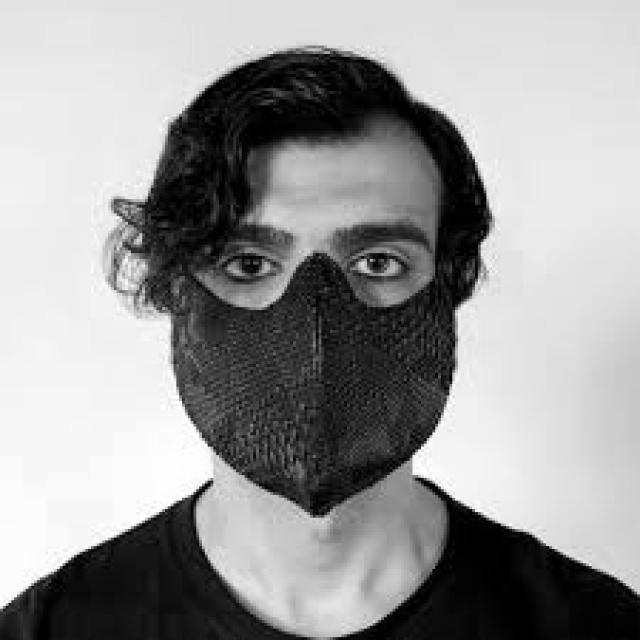fake: (163, 261, 462, 563)
real: (184, 118, 446, 525)
